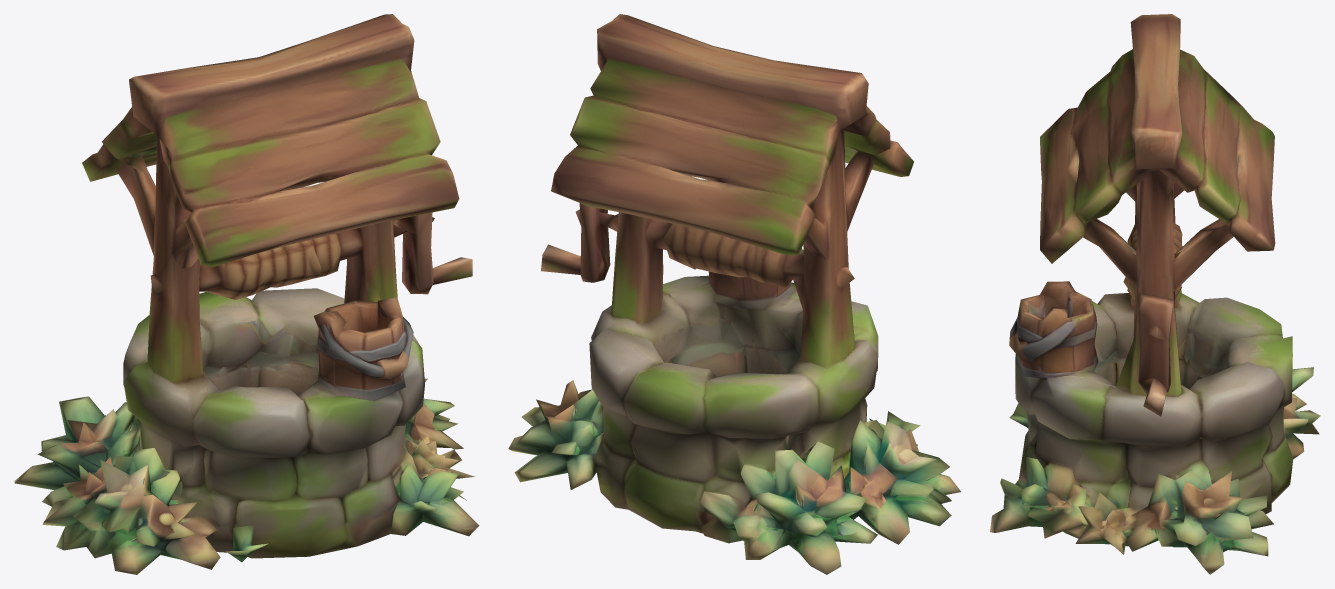
Rendered from well.glb.
3 renders of one model, left to right at view 1: azimuth 30°, elevation 25°; view 2: azimuth 150°, elevation 25°; view 3: azimuth 270°, elevation 25°, orthographic. The views are drawn at different scales.
Bounding box in the file's own units: 1.89 × 1.91 × 1.39.
Materials: 1 (1 with a texture image).
